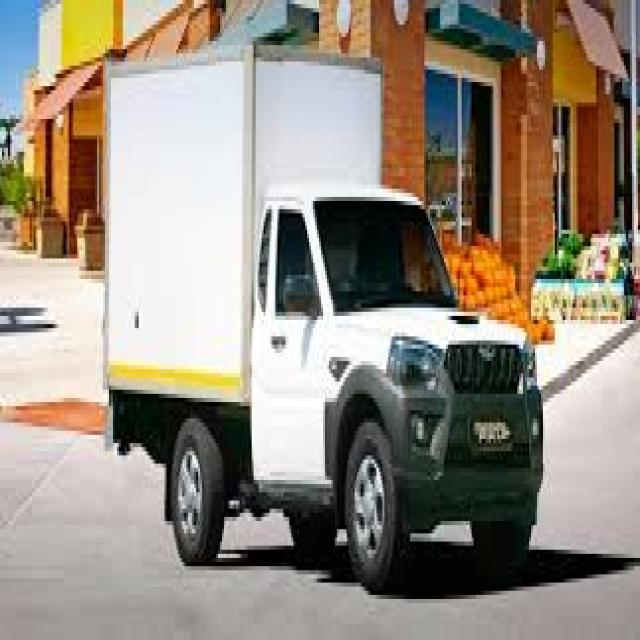Pickup Trucks: (257, 176, 545, 578)
